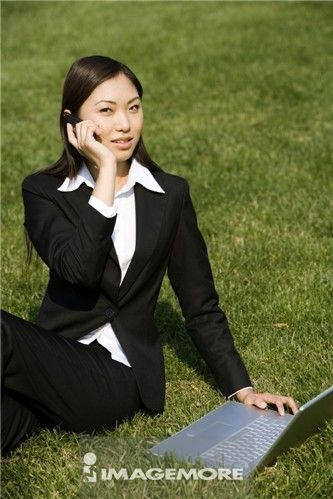phone: (65, 112, 102, 149)
talk: (63, 94, 144, 183)
